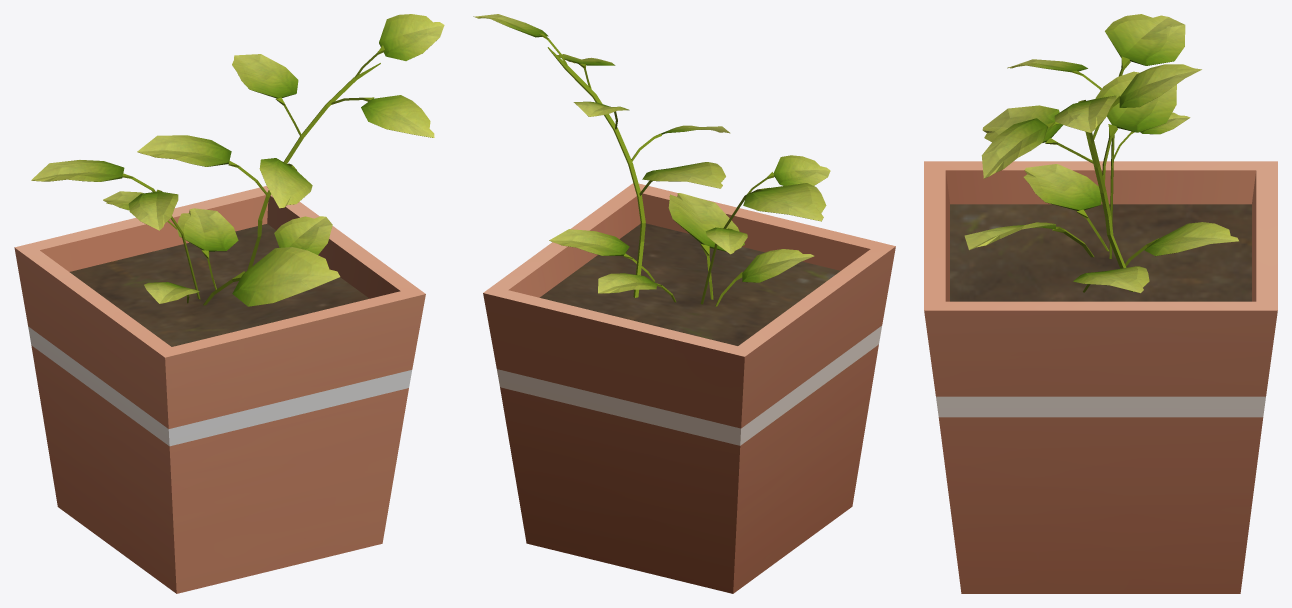
File: Doll_OB_Potting_1.fbx
3 views of the same model, side by side, from view 1: azimuth 30°, elevation 25°; view 2: azimuth 150°, elevation 25°; view 3: azimuth 270°, elevation 25° (orthographic). The views are drawn at different scales.
Parts seen in each view (by area): view 1: Doll_OB_Potting_1; view 2: Doll_OB_Potting_1; view 3: Doll_OB_Potting_1.
Boxes of the visible parts, bbox=[...] form: Doll_OB_Potting_1: bbox=[14, 14, 444, 593]; Doll_OB_Potting_1: bbox=[473, 14, 895, 593]; Doll_OB_Potting_1: bbox=[924, 14, 1277, 593].
Bounding box in the file's own units: 16.18 × 18.72 × 11.09.
